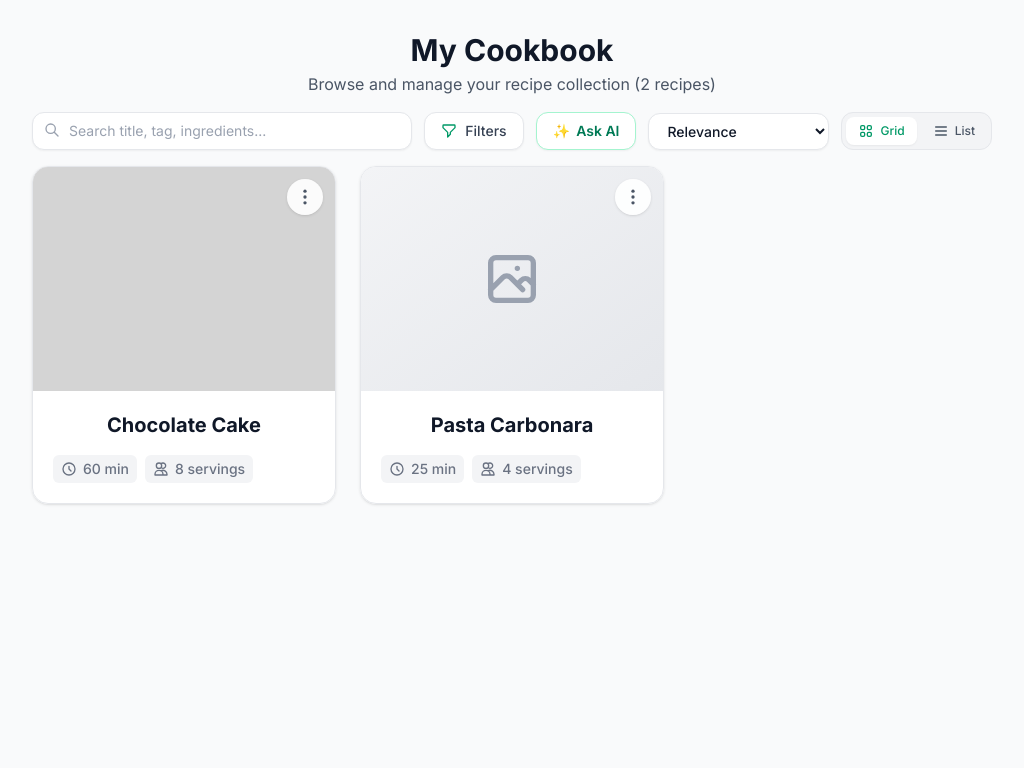
Scenario: RecipeLibrary › Delete Functionality › should close modal when cancel is clicked
This screenshot has width=1024, height=768.
Expected: the heading "Chocolate Cake" is shown, top-left (107, 413), bottom-right (261, 437)
Note: Open modal
Click the button with test id "recipe-card-menu-button" at [305, 197], box top-left (287, 179), bottom-right (323, 215)
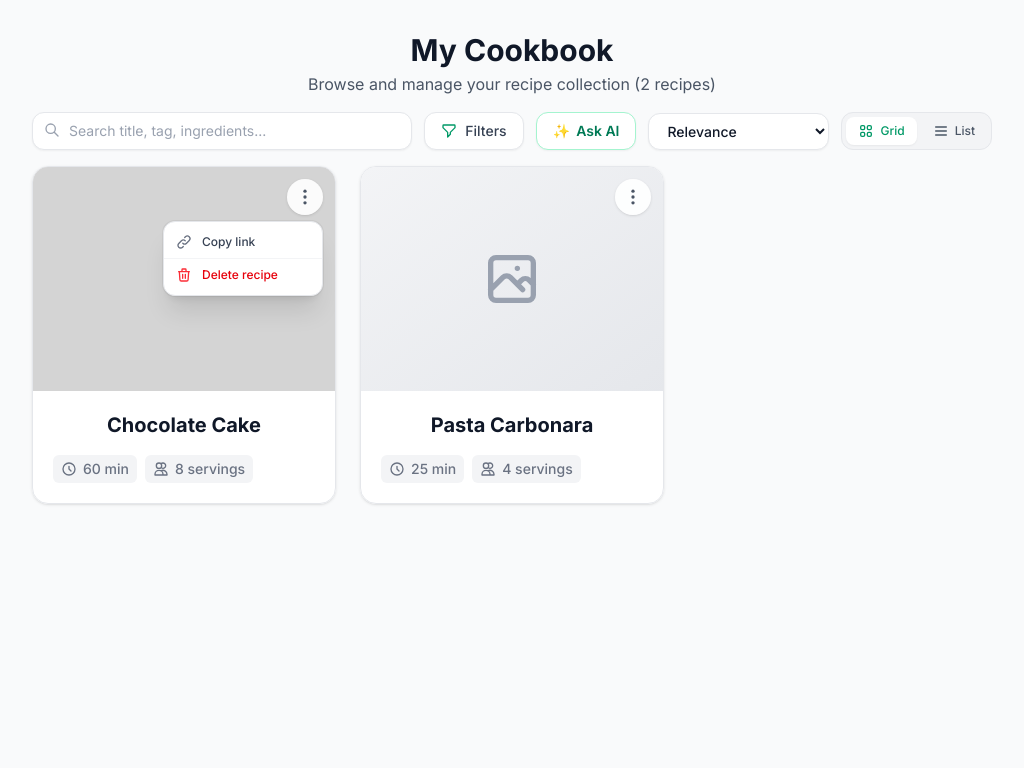
Click the menu item "Delete recipe" at [243, 274], box top-left (164, 258), bottom-right (322, 291)
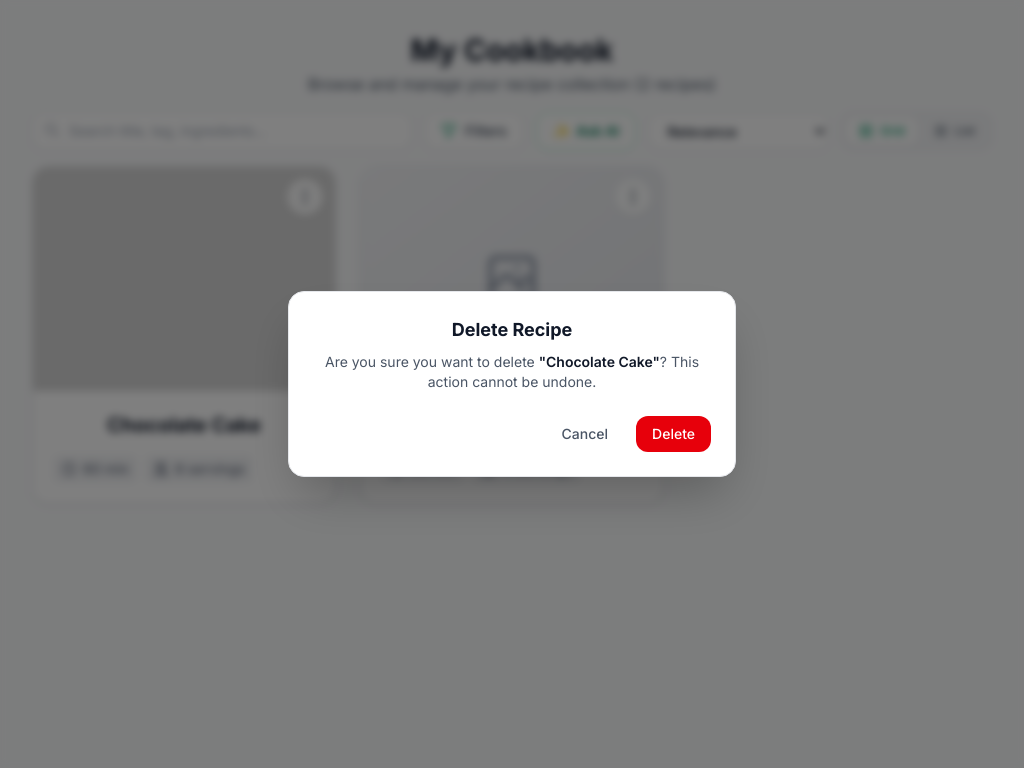
Note: Click cancel
Click the button "Cancel" at [585, 434], box top-left (546, 416), bottom-right (624, 452)
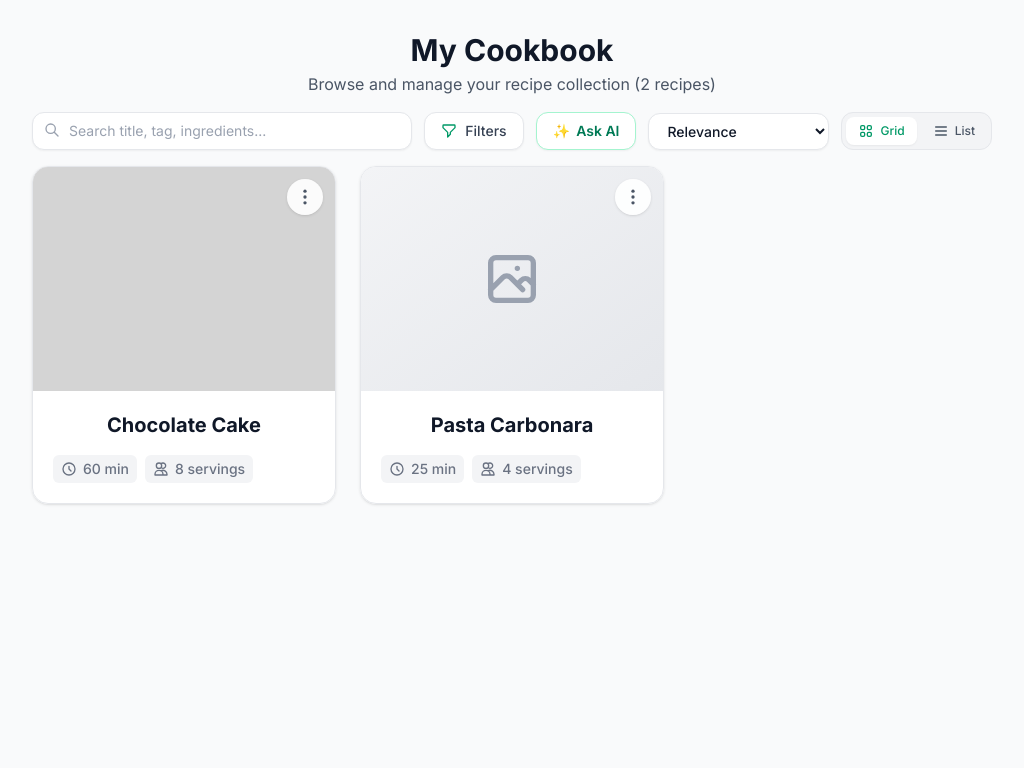
Result: the heading "Delete Recipe" is gone
